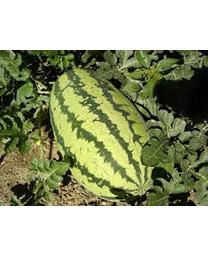watermelon: (48, 67, 156, 199)
